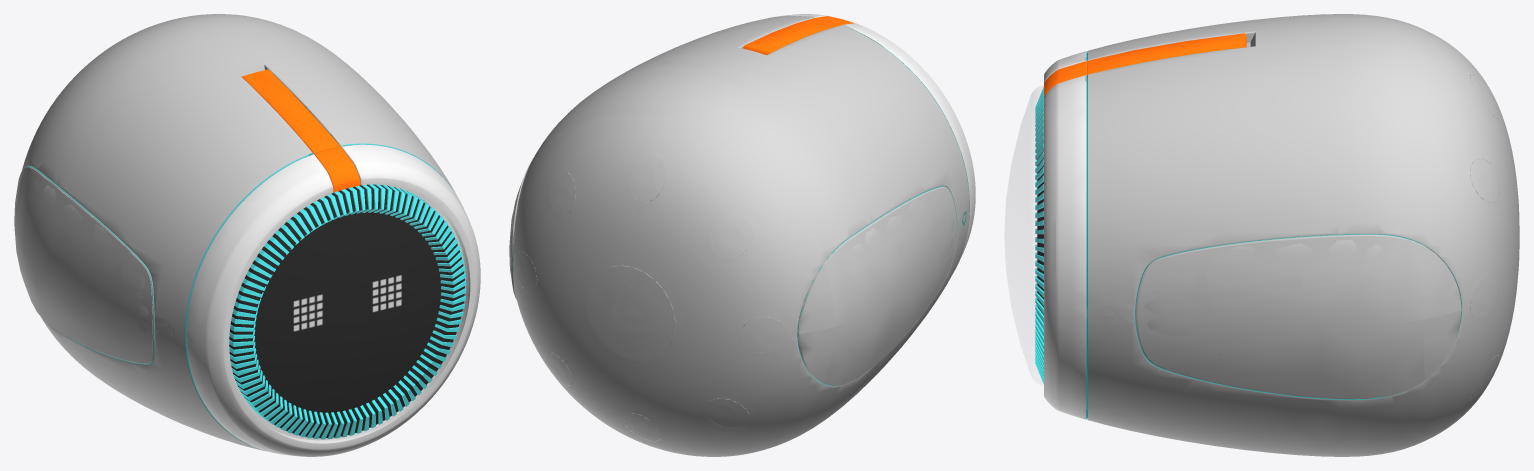
The model's file is woman.gltf.
3 renders of one model, left to right at view 1: azimuth 30°, elevation 25°; view 2: azimuth 150°, elevation 25°; view 3: azimuth 270°, elevation 25°, orthographic. The views are drawn at different scales.
Visible parts, largest first — view 1: COVER_medium, GLASS, SCREEN, COVER_medium.001, WINGS, TAB, LIGHTS_BODY, BODY; view 2: COVER_medium, WINGS, ARRIERE, COVER_medium.001, TAB, LIGHTS_BODY; view 3: COVER_medium, WINGS, COVER_medium.001, GLASS, ARRIERE, TAB, LIGHTS_BODY.
Boxes of the visible parts, x1,y1,x2,y2 form: COVER_medium: [15, 14, 455, 451]; GLASS: [230, 185, 468, 440]; SCREEN: [254, 211, 441, 413]; COVER_medium.001: [186, 140, 480, 456]; WINGS: [14, 167, 154, 363]; TAB: [242, 69, 360, 192]; LIGHTS_BODY: [26, 143, 448, 445]; BODY: [185, 144, 435, 425]; COVER_medium: [512, 16, 969, 456]; WINGS: [509, 159, 956, 385]; ARRIERE: [515, 156, 788, 441]; COVER_medium.001: [634, 14, 975, 404]; TAB: [743, 16, 854, 55]; LIGHTS_BODY: [513, 29, 969, 386]; COVER_medium: [1087, 14, 1516, 456]; WINGS: [1137, 236, 1461, 398]; COVER_medium.001: [1044, 51, 1498, 419]; GLASS: [1004, 85, 1043, 384]; ARRIERE: [1470, 74, 1519, 398]; TAB: [1044, 33, 1246, 96]; LIGHTS_BODY: [1086, 51, 1461, 419].
Bounding box in the file's own units: 0.5279 × 0.526 × 0.6121.
9 materials, 1 textured.
